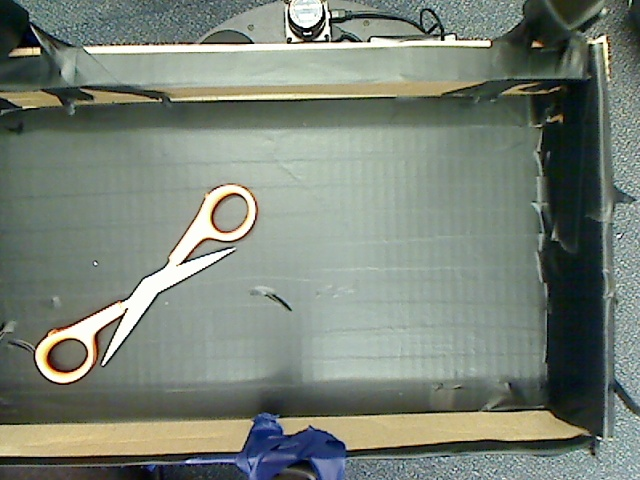scissors: (29, 173, 261, 385)
